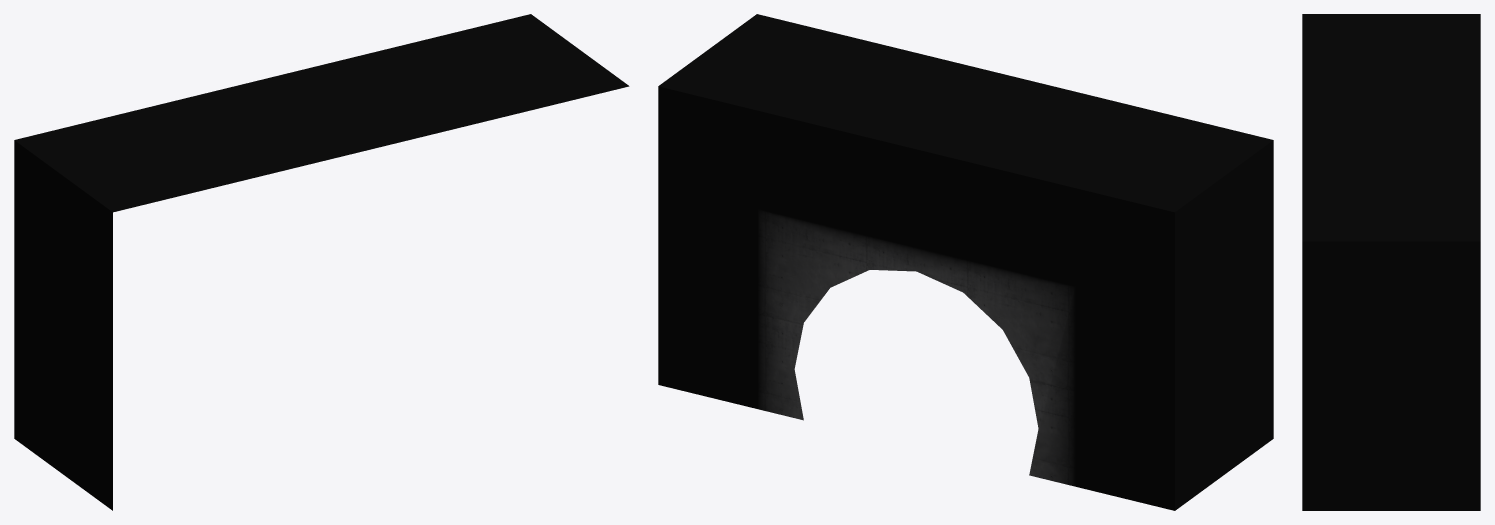
The model's file is AMB_TONNNEL_IN.glb.
3 renders of one model, left to right at view 1: azimuth 30°, elevation 25°; view 2: azimuth 150°, elevation 25°; view 3: azimuth 270°, elevation 25°, orthographic. The views are drawn at different scales.
Visible parts, largest first — view 1: BASE; view 2: BASE; view 3: BASE.
Boxes of the visible parts, x1,y1,x2,y2 form: BASE: (14, 14, 629, 510); BASE: (658, 14, 1273, 510); BASE: (1302, 14, 1480, 510).
Bounding box in the file's own units: 61.94 × 34.19 × 20.52.
Materials: 1 (1 with a texture image).
